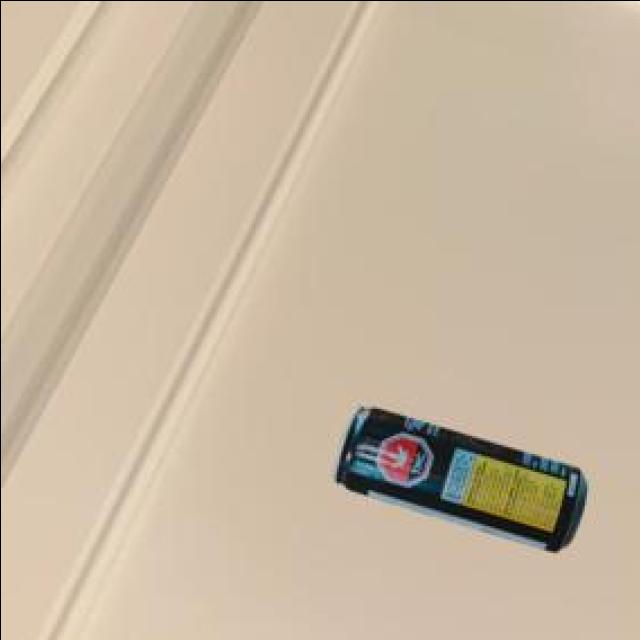logam: (337, 409, 589, 553)
